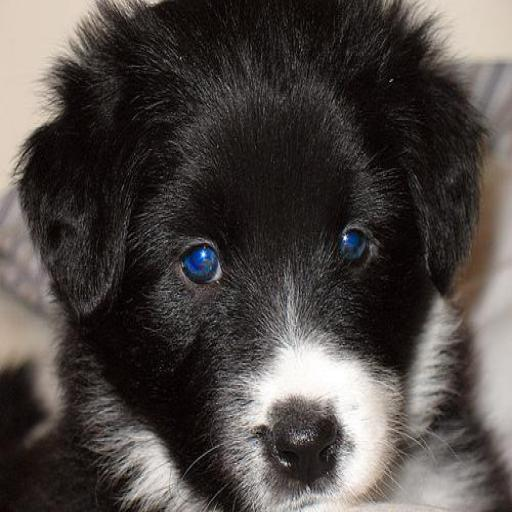dog_face: (48, 7, 459, 495)
